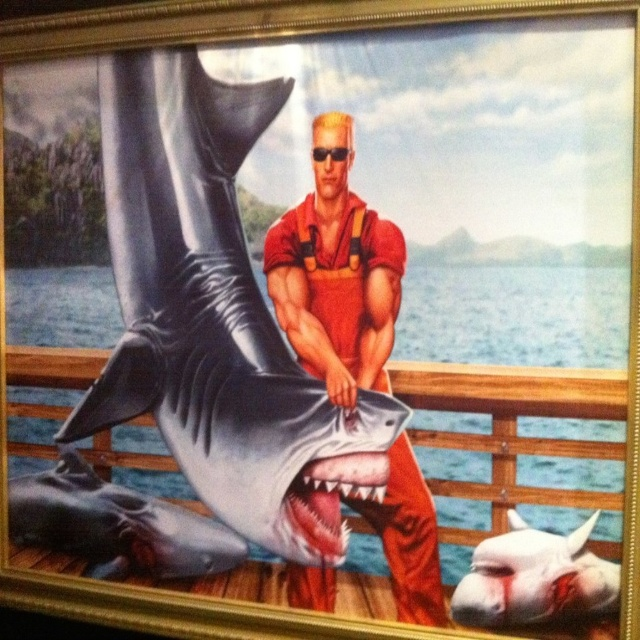Shark: (46, 42, 412, 565)
